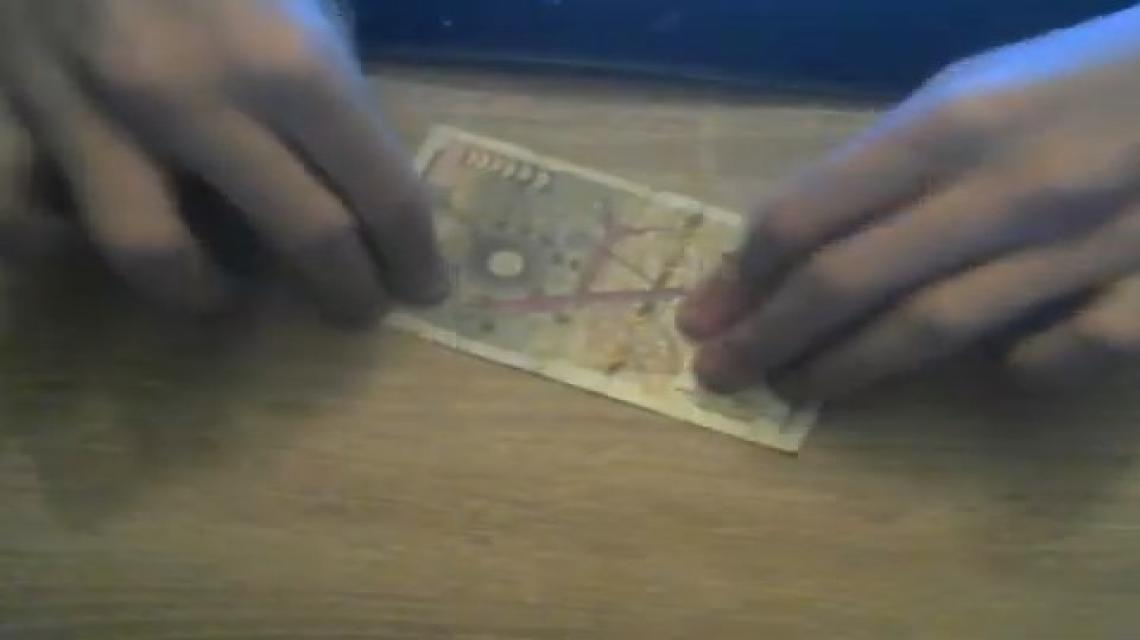10leva: (387, 124, 815, 455)
